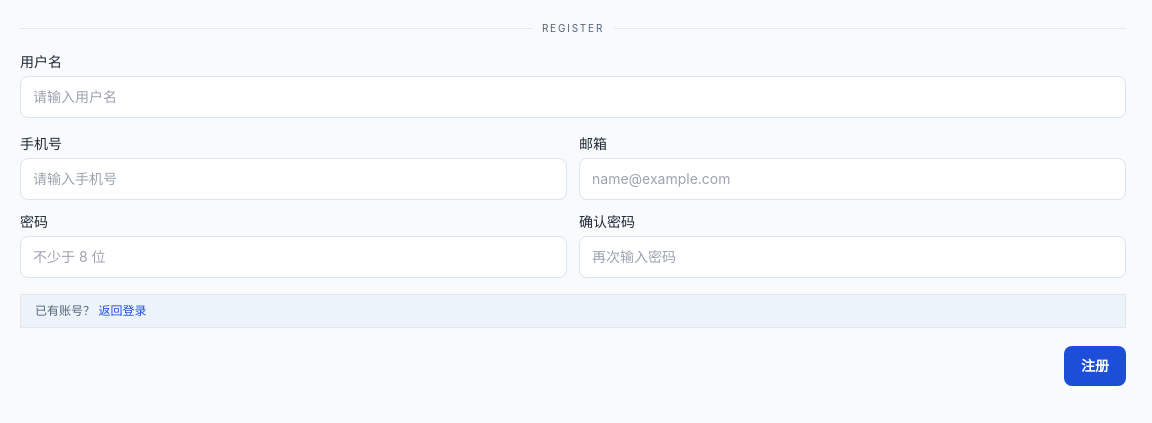
AuthRegisterForm async lifecycle › validates local fields before sending an availability request: {"email":"invalid"}
Type "register_user" into the field with id "auth-register-username" at (573, 97), box [20,76,1126,118]
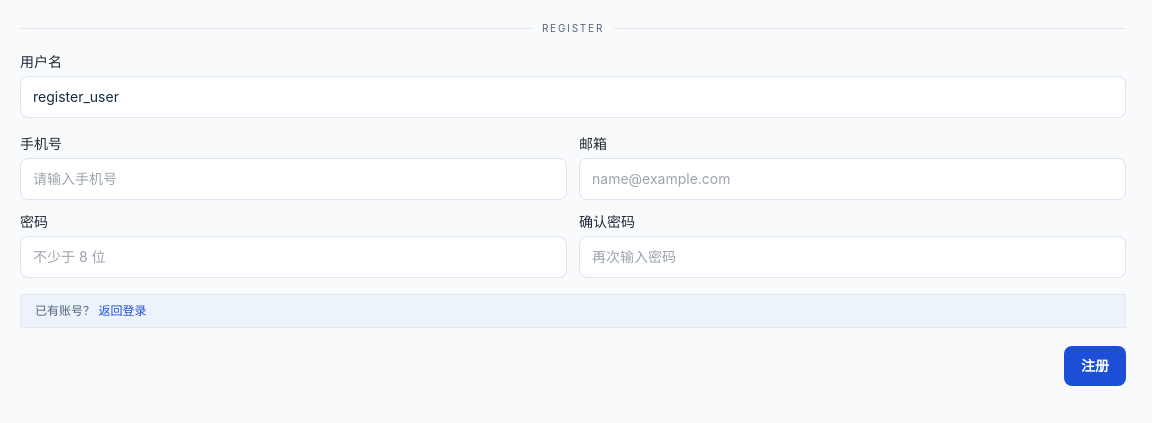
Type "13800000000" into the field with id "auth-register-phone" at (294, 179), box [20,158,567,200]
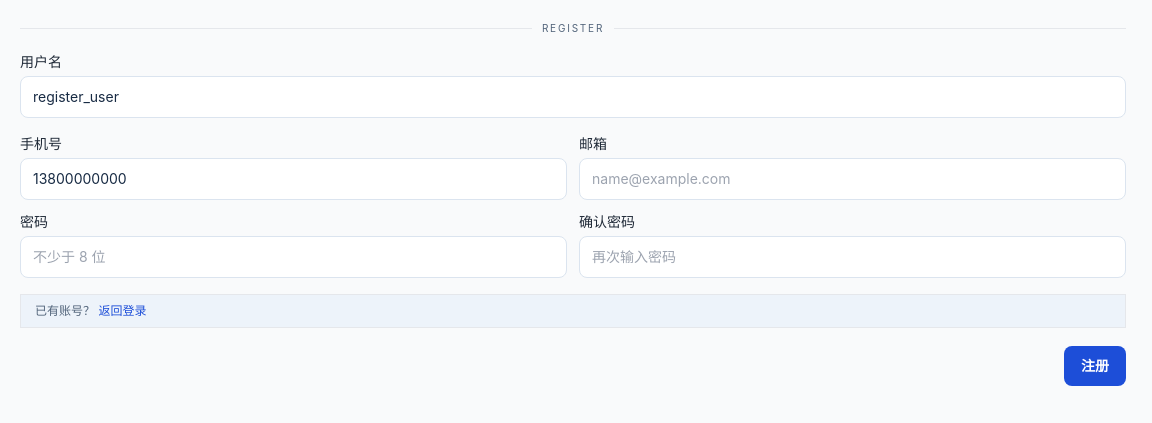
Type "invalid" into the field with id "auth-register-email" at (852, 179), box [579,158,1126,200]
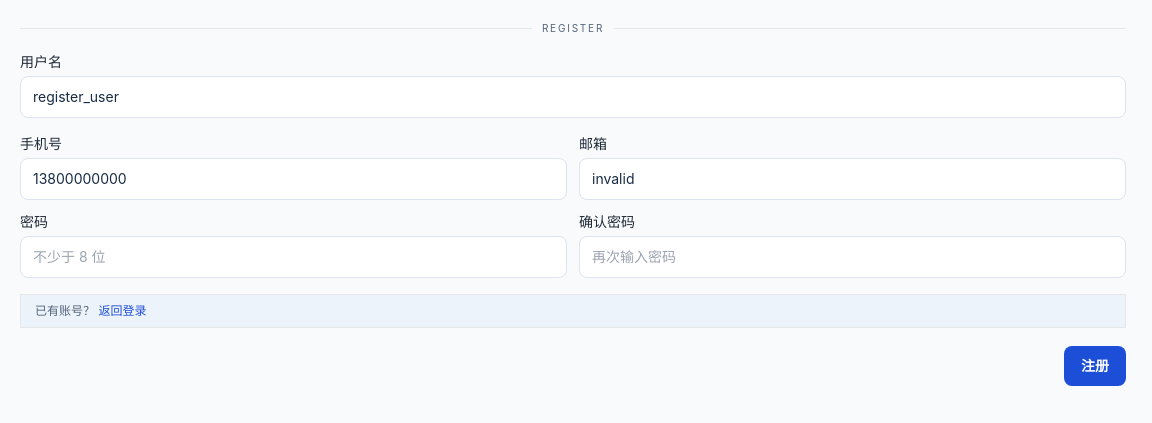
Type "StrongPass1" into the password field with id "auth-register-password" at (294, 257), box [20,236,567,278]
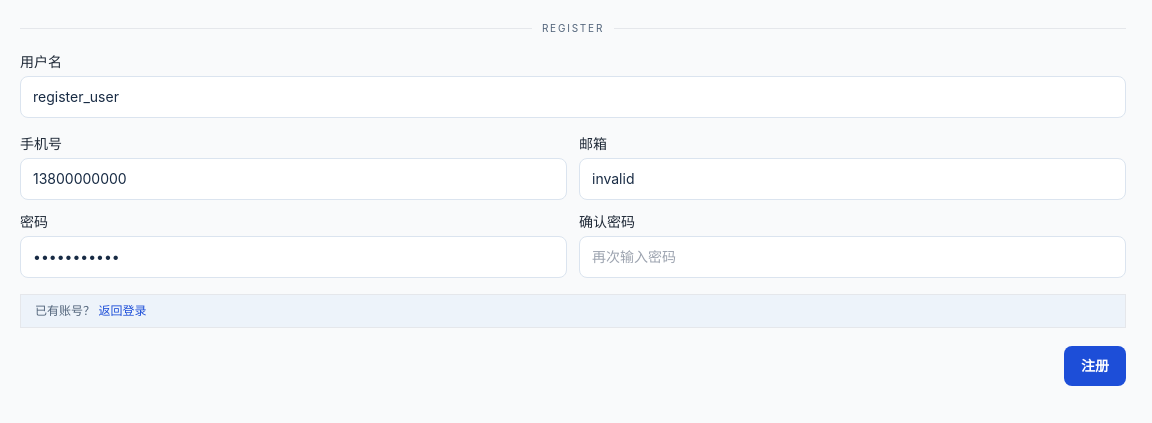
Type "StrongPass1" into the password field with id "auth-register-confirm-password" at (852, 257), box [579,236,1126,278]
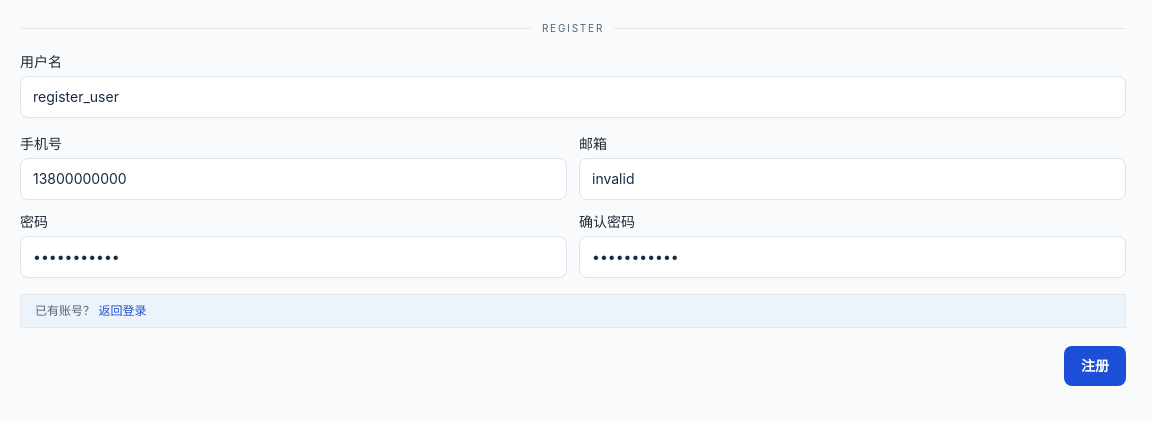
Submit the form
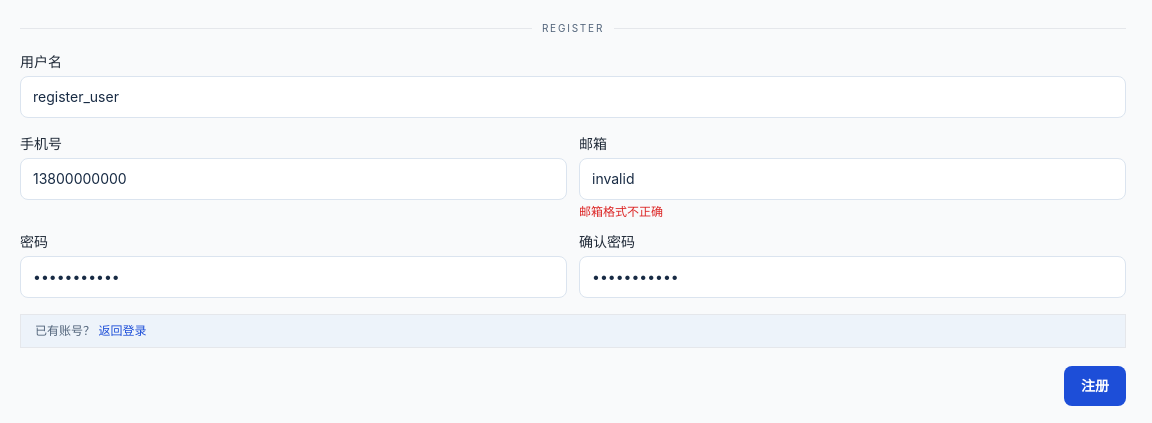
Expected: the message "邮箱格式不正确" is shown, [579,204,663,219]
